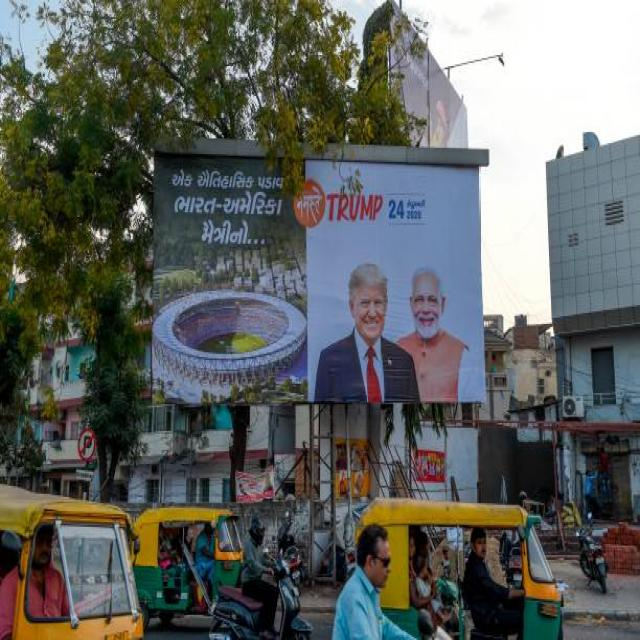Werbetafel frei: (148, 150, 483, 405)
